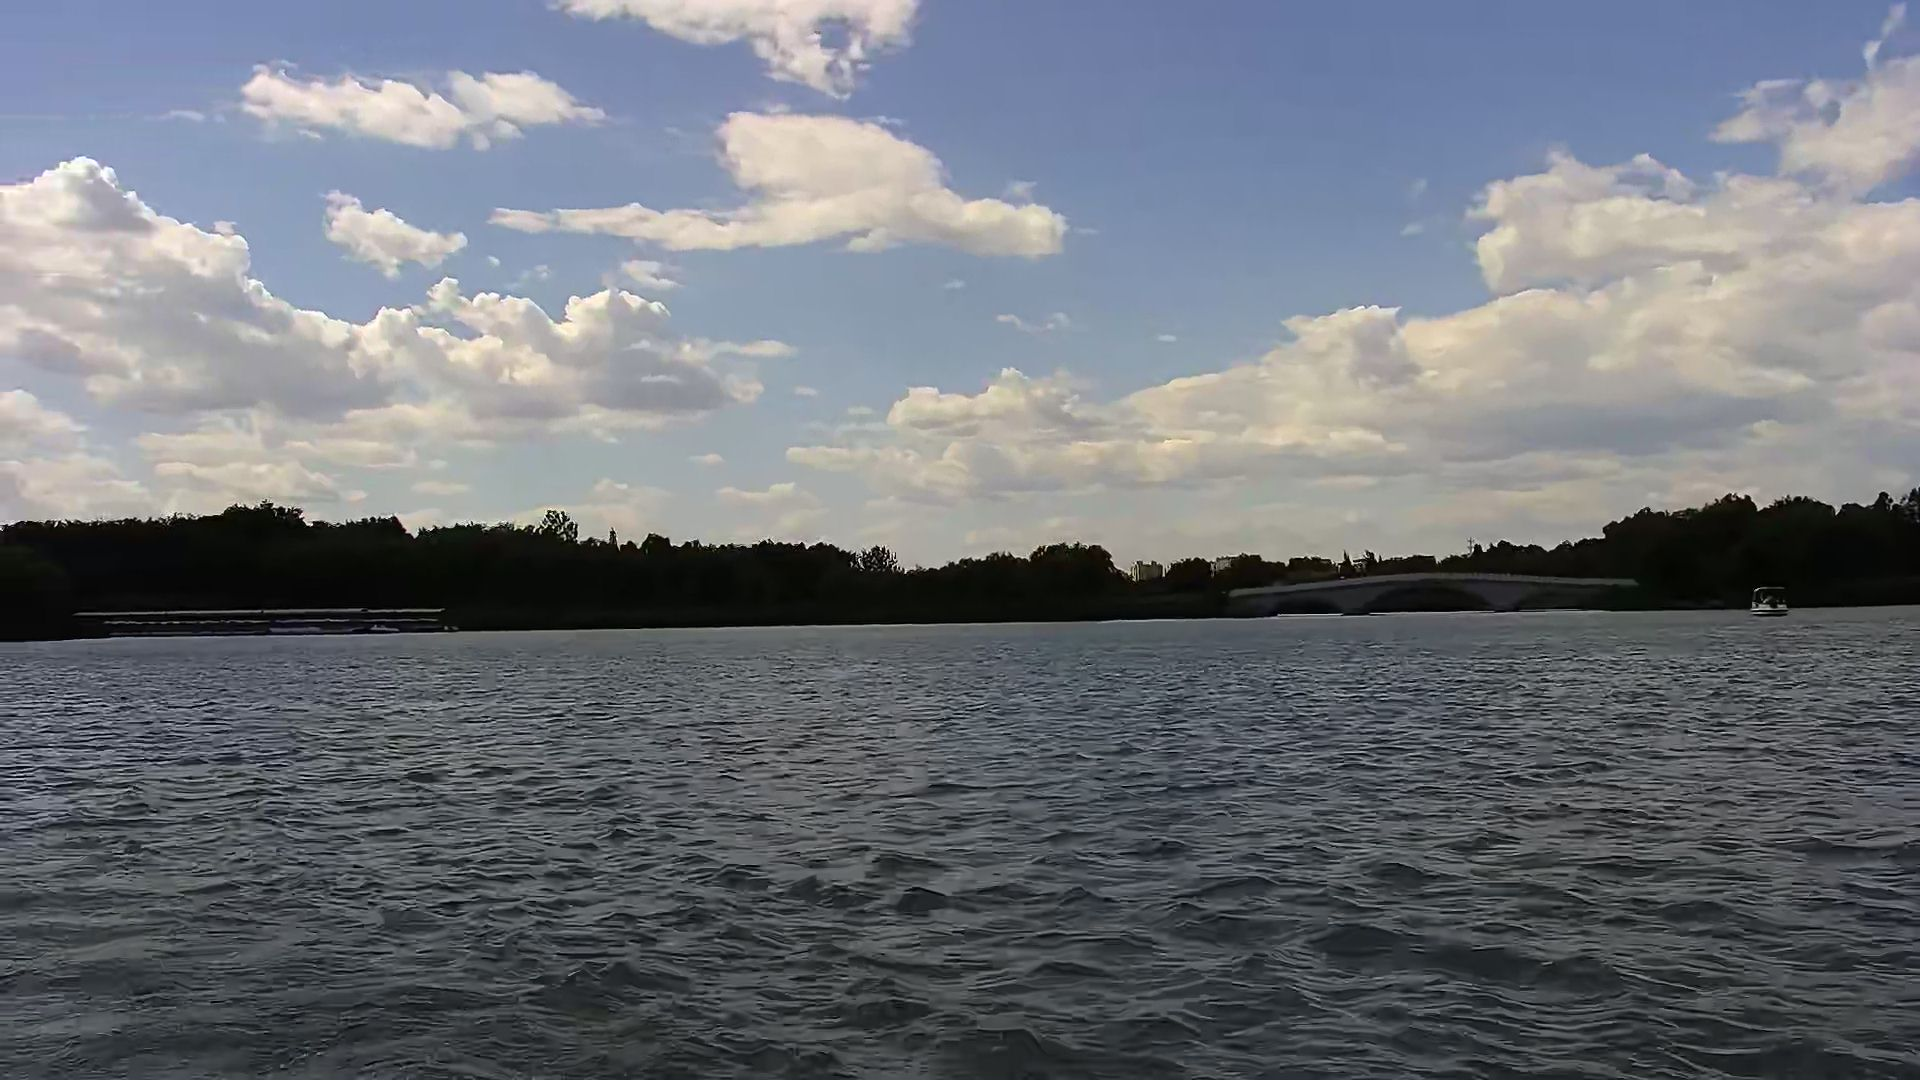boat: (1743, 579, 1803, 618)
bridge: (1221, 566, 1646, 615)
